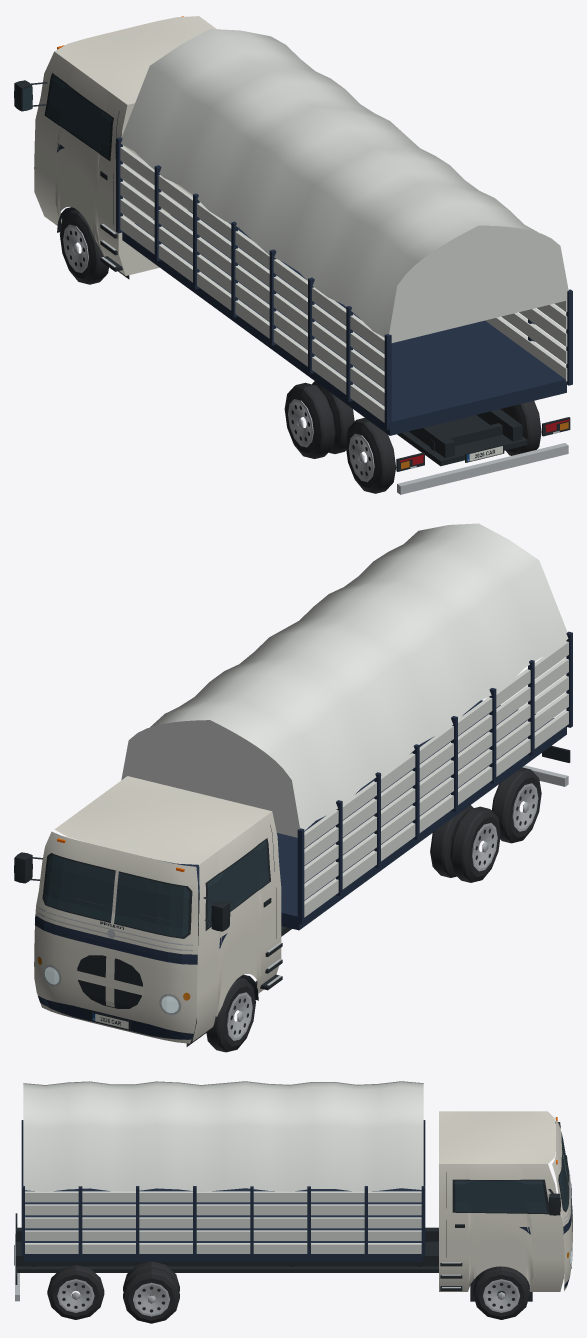
Rendered from Entrega_24_LOD1.glb.
3 renders of one model, top to bottom at view 1: azimuth 30°, elevation 25°; view 2: azimuth 150°, elevation 25°; view 3: azimuth 270°, elevation 25°, orthographic. The views are drawn at different scales.
Visible parts, largest first — view 1: Body, Wheel_2L, Wheel_3L, Glass, Wheel_FL, Wheel_3R; view 2: Body, Glass, Wheel_2L, Wheel_3L, Wheel_FL; view 3: Body, Glass, Wheel_2R, Wheel_3R, Wheel_FR.
Part boxes in pixels (left/top/right/bottom): Body: left=14, top=16, right=572, bottom=494; Wheel_2L: left=284, top=381, right=354, bottom=458; Wheel_3L: left=345, top=417, right=396, bottom=493; Glass: left=46, top=75, right=111, bottom=158; Wheel_FL: left=59, top=209, right=108, bottom=284; Wheel_3R: left=500, top=401, right=541, bottom=455; Body: left=14, top=523, right=572, bottom=1046; Glass: left=44, top=841, right=269, bottom=937; Wheel_2L: left=430, top=805, right=500, bottom=882; Wheel_3L: left=491, top=767, right=541, bottom=843; Wheel_FL: left=206, top=977, right=255, bottom=1052; Body: left=14, top=1081, right=572, bottom=1301; Glass: left=455, top=1133, right=568, bottom=1213; Wheel_2R: left=123, top=1261, right=179, bottom=1323; Wheel_3R: left=47, top=1265, right=104, bottom=1319; Wheel_FR: left=473, top=1266, right=529, bottom=1319.
Size of the model in its own units: 2.92 by 3.65 by 9.02.
Materials: 16 (2 with a texture image).
